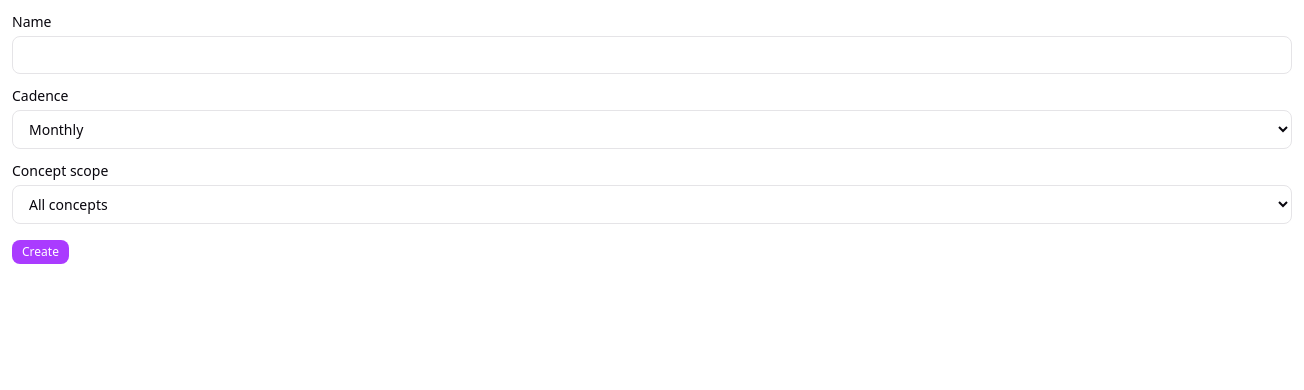
Test case: ProcessForm › shows concept picker when scope is selected
The width and height of the screenshot is (1304, 390).
Step 1. Select "Selected concepts" in the dropdown labelled "Concept scope" → [652, 204], box [12,185,1292,224]
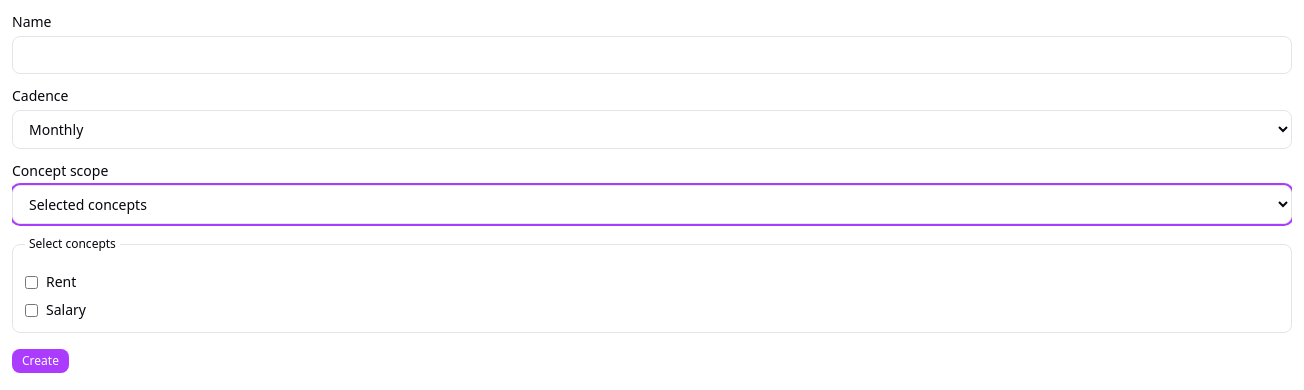
Result: the text "Rent" is shown at [46,272,76,292]
Result: the text "Salary" is shown at [46,300,86,320]
